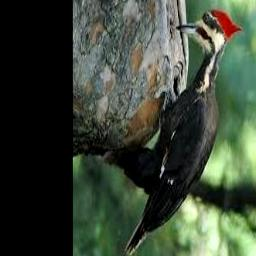Woodpecker: (124, 10, 242, 254)
